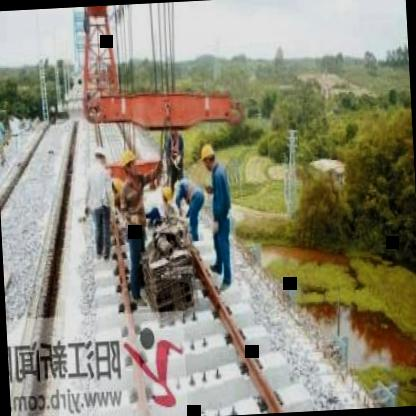helmet: (198, 137, 216, 170), (156, 179, 174, 207), (120, 146, 136, 176), (94, 144, 108, 167)
